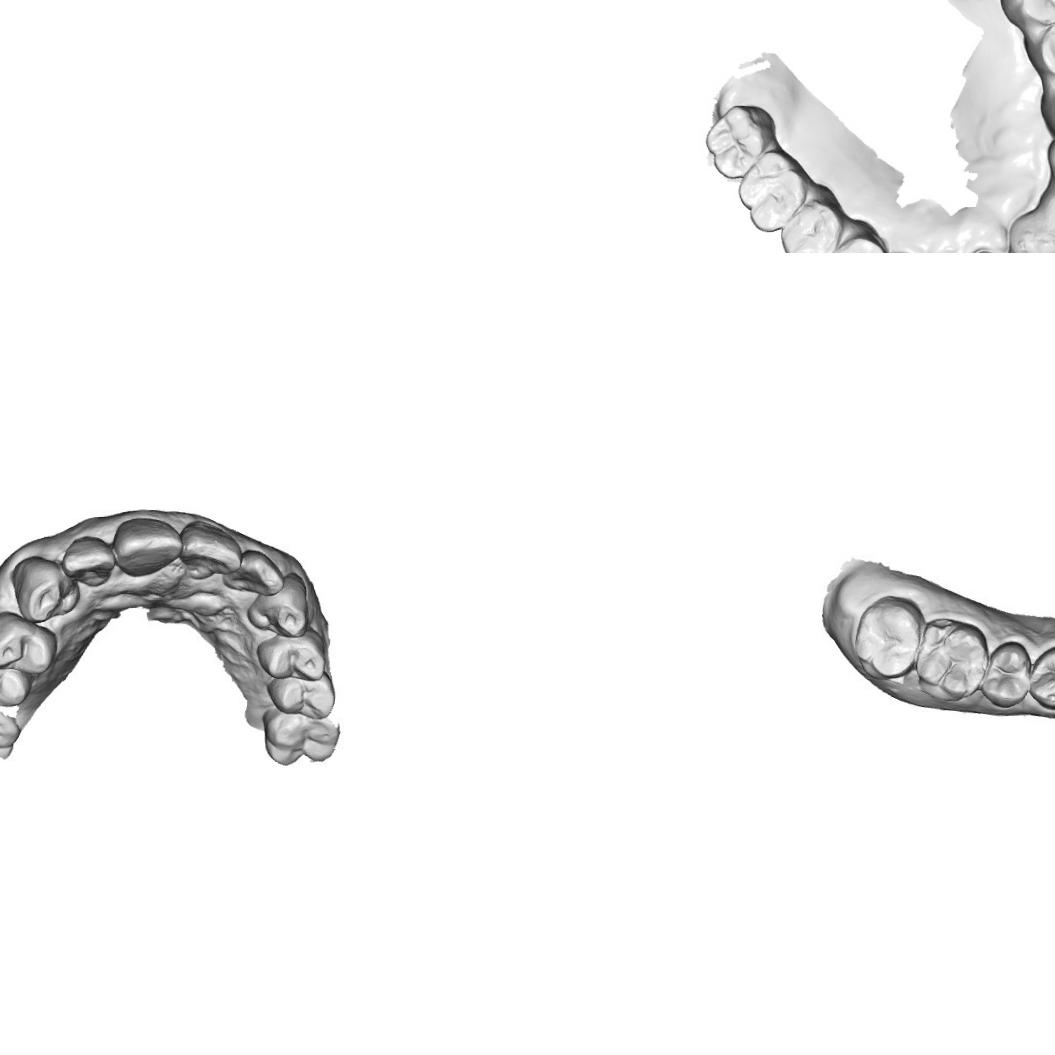canine: (7, 555, 84, 623), (244, 573, 315, 637)
incisor: (112, 514, 180, 578), (177, 518, 240, 578), (220, 548, 287, 598), (60, 534, 115, 587), (1008, 213, 1055, 253), (1038, 186, 1055, 249)
molar: (912, 616, 991, 704), (851, 594, 929, 682), (735, 148, 809, 235), (704, 102, 779, 180), (260, 708, 340, 768), (0, 688, 23, 757), (1003, 0, 1055, 28)
premolar: (0, 607, 61, 677), (254, 630, 332, 682), (778, 196, 848, 253), (977, 640, 1033, 710), (264, 674, 338, 720), (1027, 643, 1055, 711), (0, 650, 29, 713), (1035, 13, 1055, 79), (822, 233, 888, 253)
